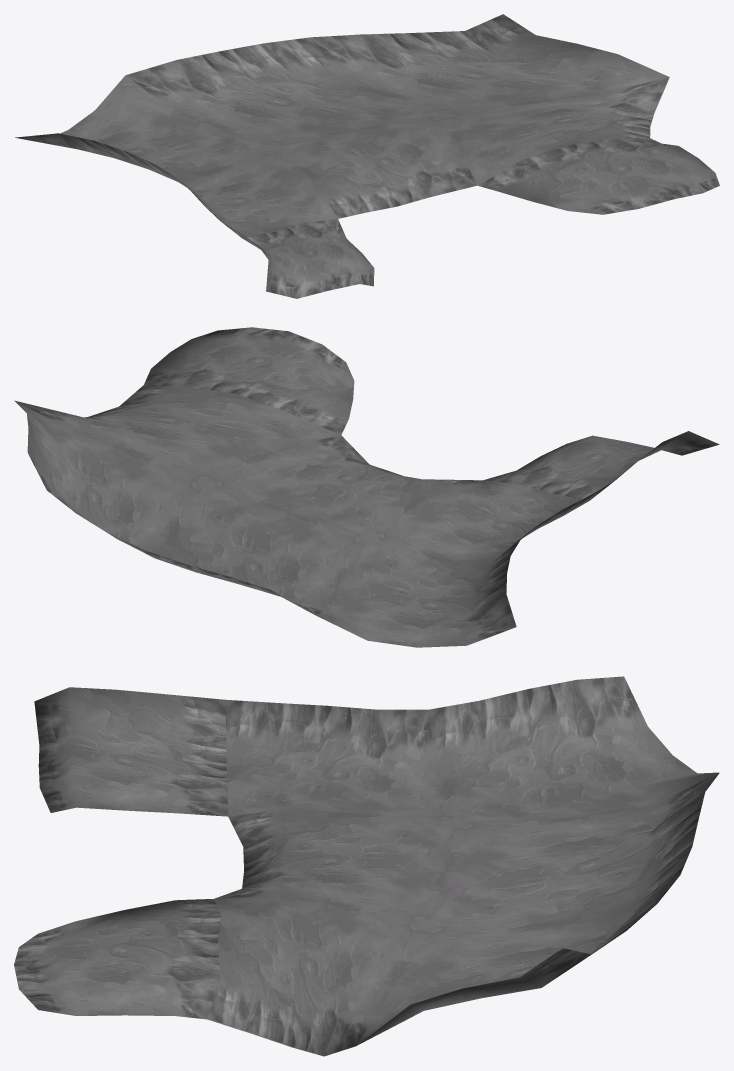
The model's file is SWORDLIGHT20_PS-AREA03_133.fbx.
The picture shows the model from 3 angles, top to bottom: view 1: azimuth 30°, elevation 25°; view 2: azimuth 150°, elevation 25°; view 3: azimuth 270°, elevation 25°; orthographic projection. The views are drawn at different scales.
Parts seen in each view (by area): view 1: SWORDLIGHT20_PS-AREA03_133; view 2: SWORDLIGHT20_PS-AREA03_133; view 3: SWORDLIGHT20_PS-AREA03_133.
Part boxes in pixels (x1,y1,x2,y2): SWORDLIGHT20_PS-AREA03_133: (15,14,719,298); SWORDLIGHT20_PS-AREA03_133: (14,327,719,647); SWORDLIGHT20_PS-AREA03_133: (14,676,719,1056).
Size of the model in its own units: 174225 by 16667 by 141809.
Materials: 3 (3 with a texture image).
